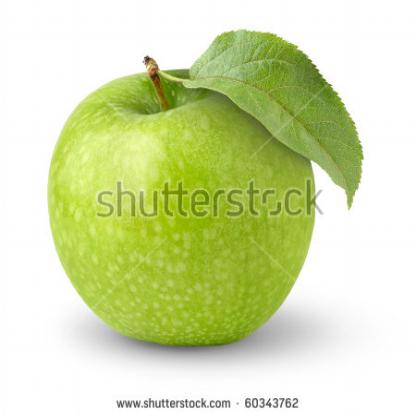Apple leaf: (190, 21, 384, 185)
